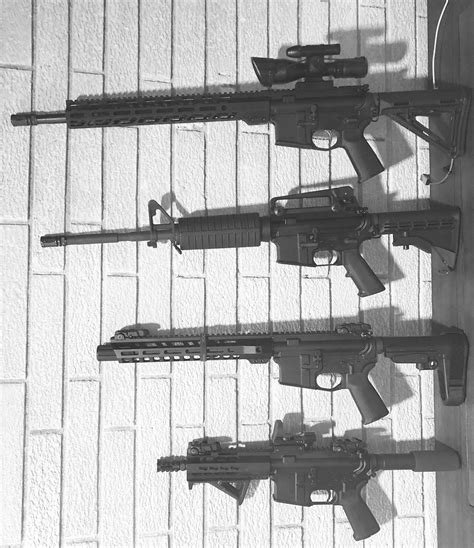gun: (7, 42, 471, 180), (37, 186, 462, 296), (151, 417, 462, 542), (97, 320, 470, 422)
